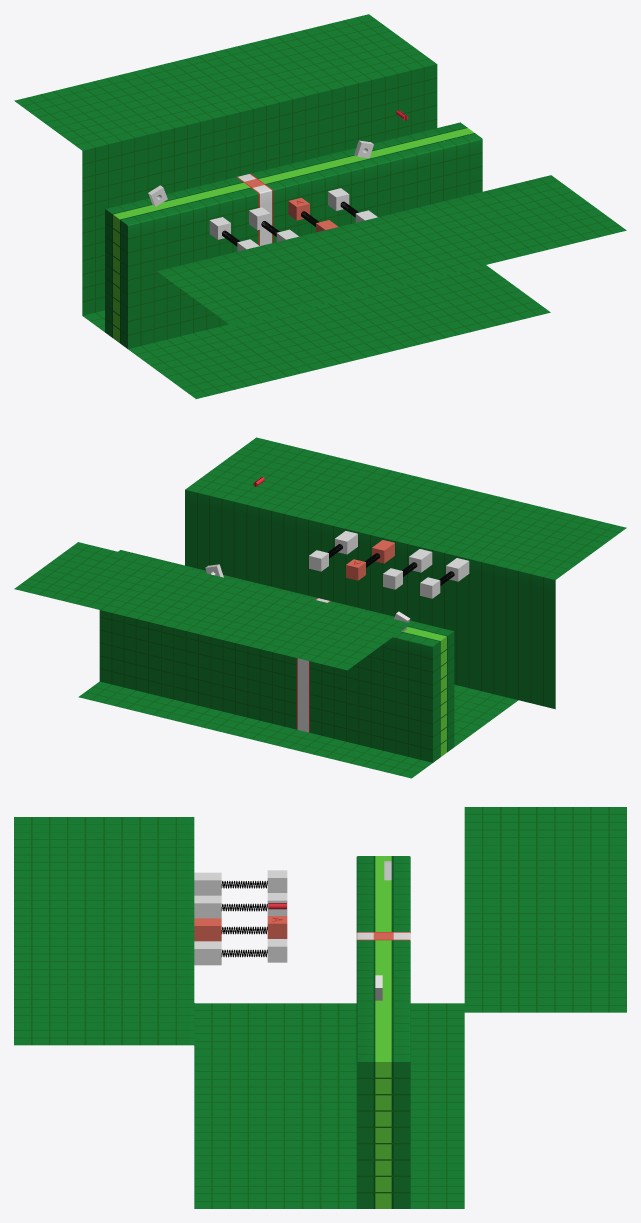
The model's file is rhythm-draco.glb.
The picture shows the model from 3 angles, top to bottom: view 1: azimuth 30°, elevation 25°; view 2: azimuth 150°, elevation 25°; view 3: azimuth 270°, elevation 25°; orthographic projection. The views are drawn at different scales.
Visible parts, largest first — view 1: geo, background, base; view 2: geo, background, base; view 3: geo, background, base, base.002.
Boxes of the visible parts, bbox=[...] form: geo: bbox=[82, 122, 626, 398]; background: bbox=[14, 14, 437, 315]; base: bbox=[237, 210, 377, 251]; geo: bbox=[78, 437, 626, 778]; background: bbox=[14, 542, 411, 670]; base: bbox=[335, 531, 469, 581]; geo: bbox=[14, 817, 464, 1208]; background: bbox=[464, 807, 626, 1012]; base: bbox=[194, 872, 221, 965]; base.002: bbox=[194, 918, 221, 941].
Size of what is drawn, in the model's own units: 60 by 29.31 by 68.
